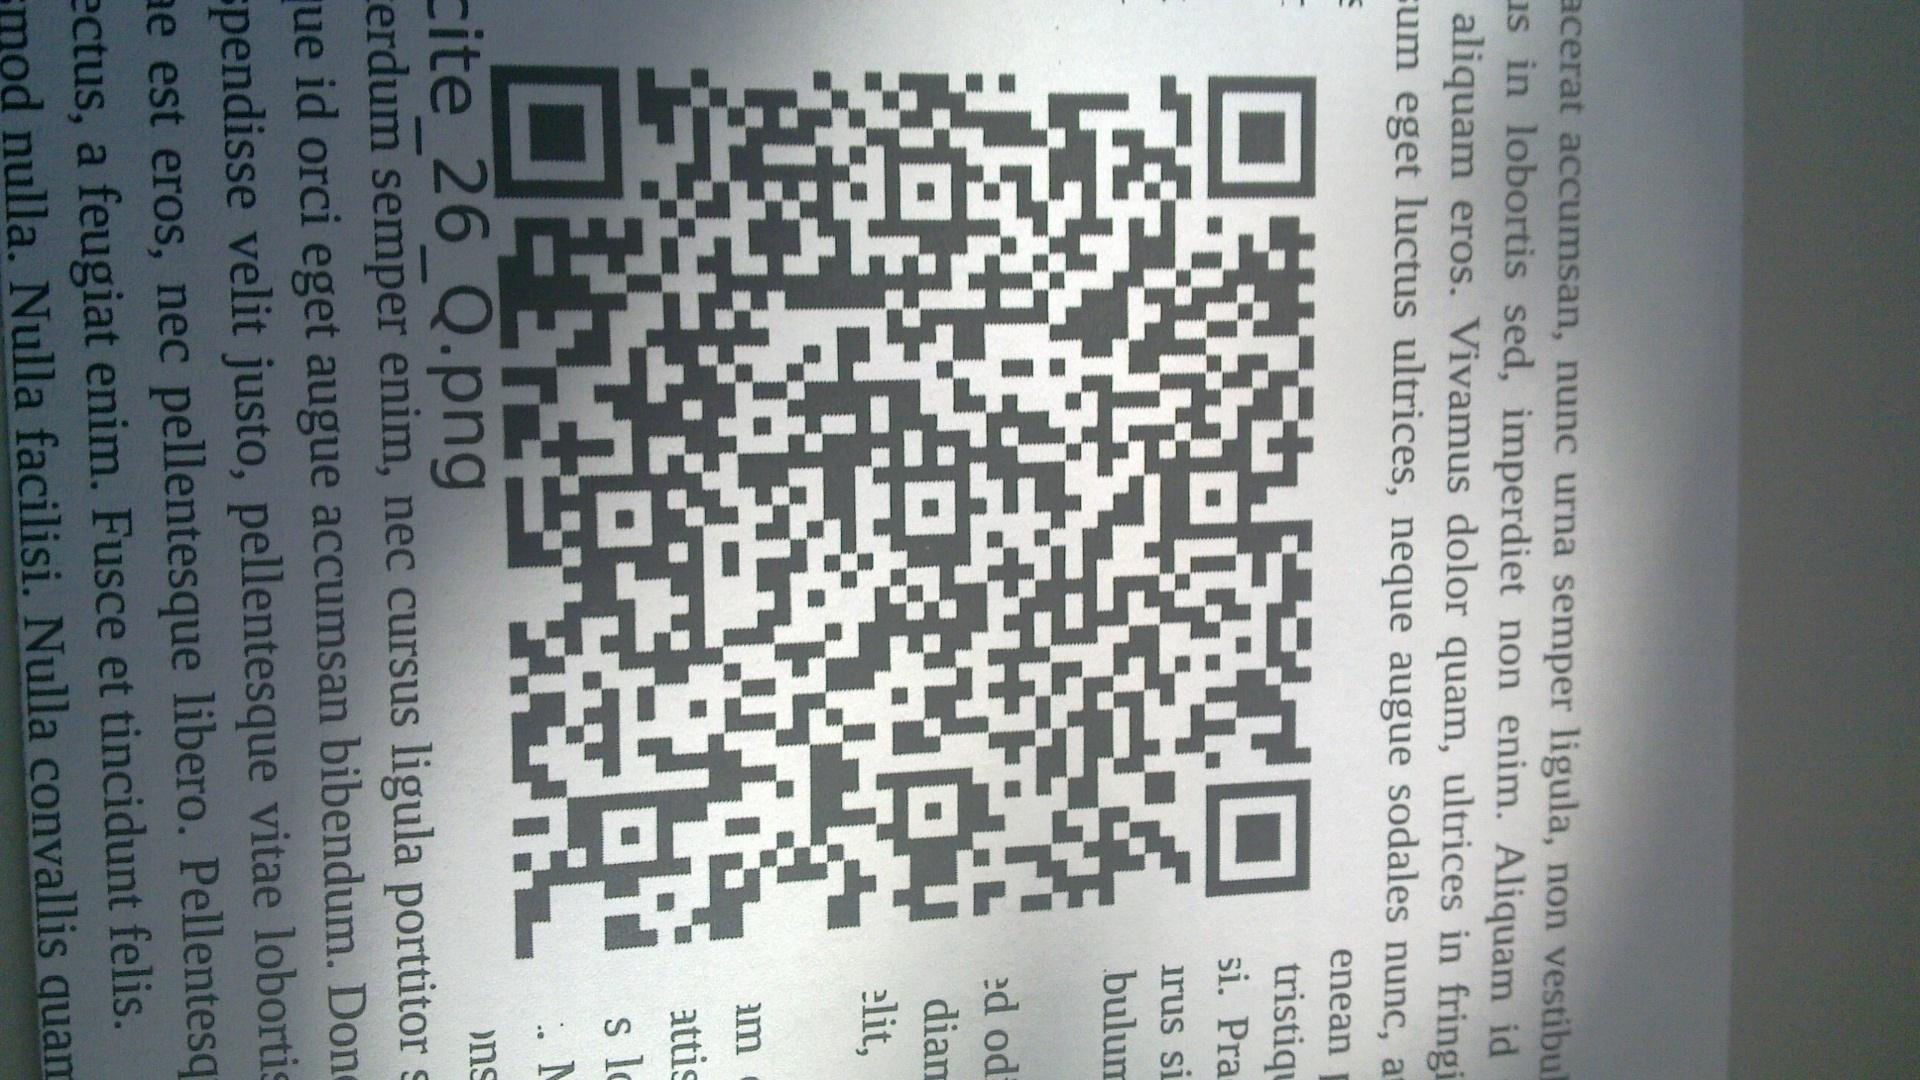Finder pattern: (484, 58, 632, 208), (1199, 65, 1325, 204), (1199, 773, 1315, 905)
